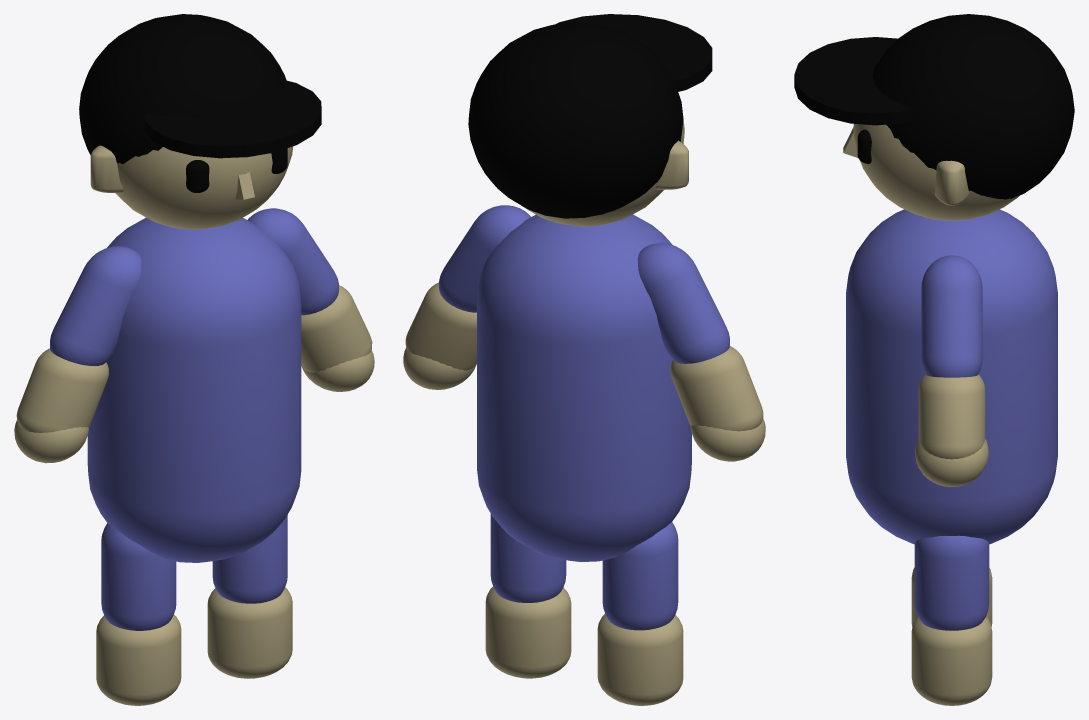
Rendered from Body.fbx.
3 views of the same model, side by side, from view 1: azimuth 30°, elevation 25°; view 2: azimuth 150°, elevation 25°; view 3: azimuth 270°, elevation 25° (orthographic).
Visible parts, largest first — view 1: Body, hear, head, cap, arm__1_, Capsule__4__1, Capsule__4__2, arm__3_, Capsule__4__3, arm, arm__2_, Capsule__4_ (+4 smaller); view 2: Body, hear, arm__1_, Capsule__4__1, Capsule__4__2, arm__3_, Capsule__4__3, cap, arm, arm__2_, Capsule__4_, Sphere (+3 smaller); view 3: Body, hear, cap, arm, arm__2_, Capsule__4__1, head, Capsule__4_, Sphere__1_, ear, Capsule__4__2, eye__1_.
Boxes of the visible parts, x1,y1,x2,y2 form: Body: (87,217,301,562); hear: (79,14,286,163); head: (115,146,293,229); cap: (144,79,321,158); arm__1_: (50,246,141,365); Capsule__4__1: (207,587,292,678); Capsule__4__2: (96,614,181,705); arm__3_: (101,523,176,630); Capsule__4__3: (16,348,108,432); arm: (247,208,338,315); arm__2_: (212,515,287,603); Capsule__4_: (301,285,372,372); Body: (477,214,691,561); hear: (468,22,683,218); arm__1_: (637,243,729,363); Capsule__4__1: (485,586,571,678); Capsule__4__2: (597,614,683,705); arm__3_: (602,522,678,630); Capsule__4__3: (670,346,763,431); cap: (556,14,712,91); arm: (439,205,530,312); arm__2_: (490,514,566,602); Capsule__4_: (405,282,476,370); Sphere: (690,418,765,461); Body: (846,209,1057,544); hear: (872,14,1074,199); cap: (794,37,913,125); arm: (921,255,982,377); arm__2_: (914,535,989,630); Capsule__4__1: (911,616,992,705); head: (853,124,1018,220); Capsule__4_: (918,374,985,459); Sphere__1_: (915,438,988,486); ear: (934,160,968,205); Capsule__4__2: (911,567,992,626); eye__1_: (857,129,871,163).
Size of the model in its own units: 105 by 188 by 73.81.
